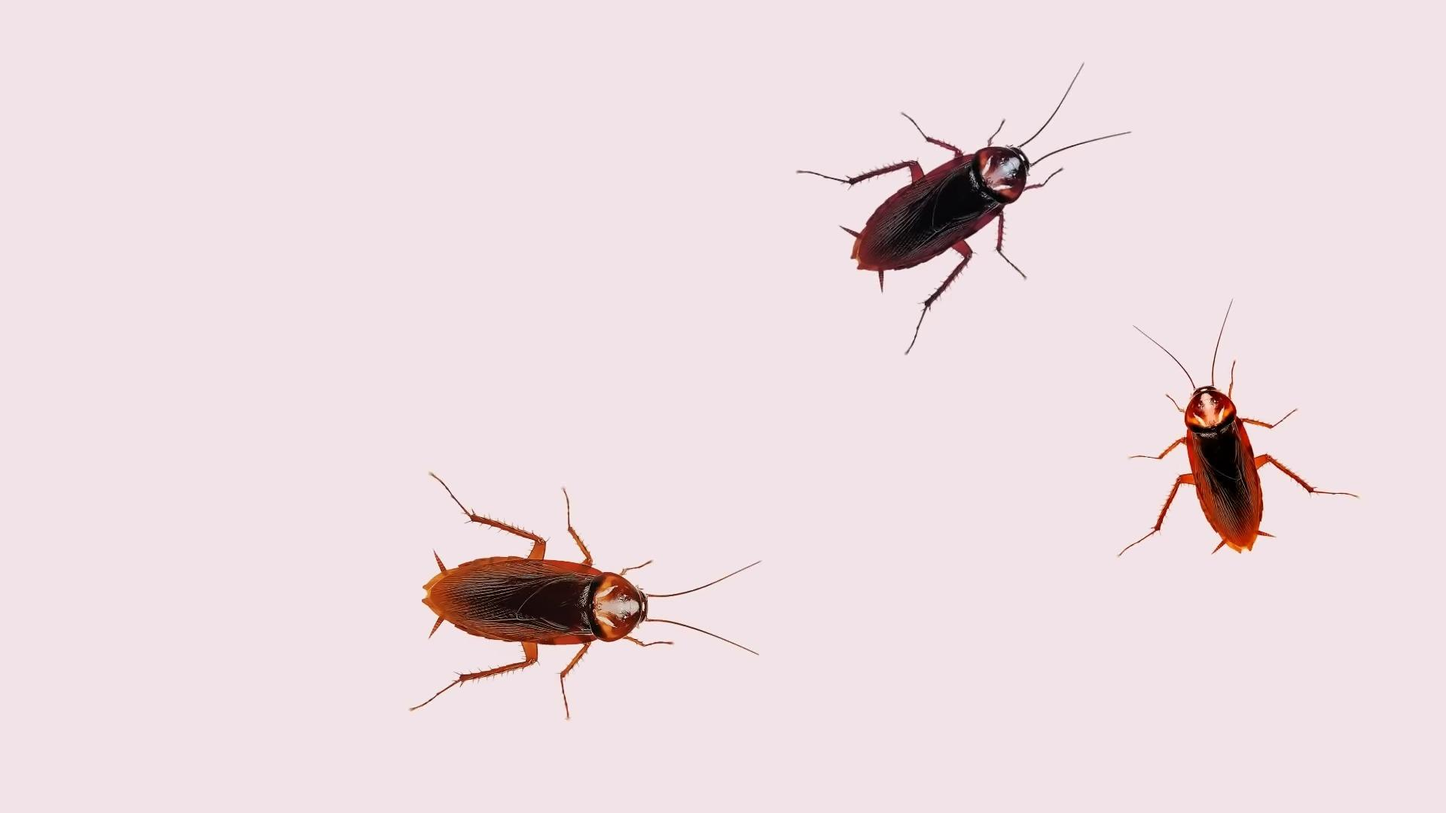cockroach: (423, 477, 730, 718), (819, 83, 1084, 312), (1151, 330, 1310, 571)
